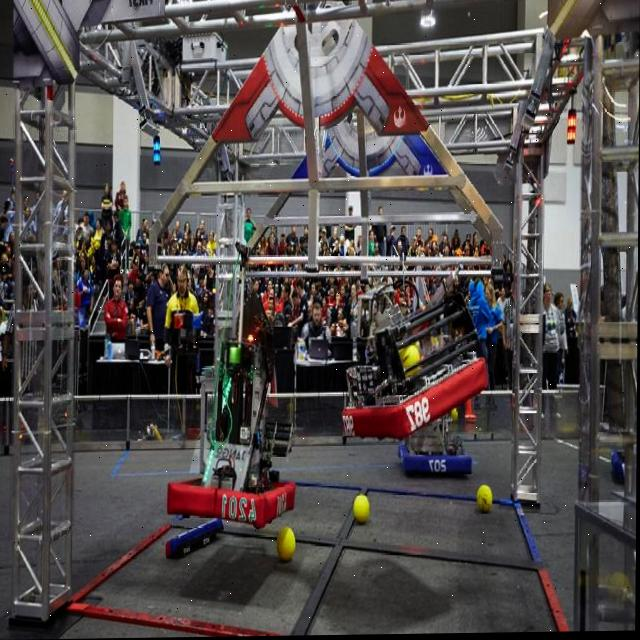robot: (153, 211, 309, 544), (327, 264, 504, 452), (388, 405, 487, 486)
